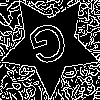G: (25, 20, 74, 75)
